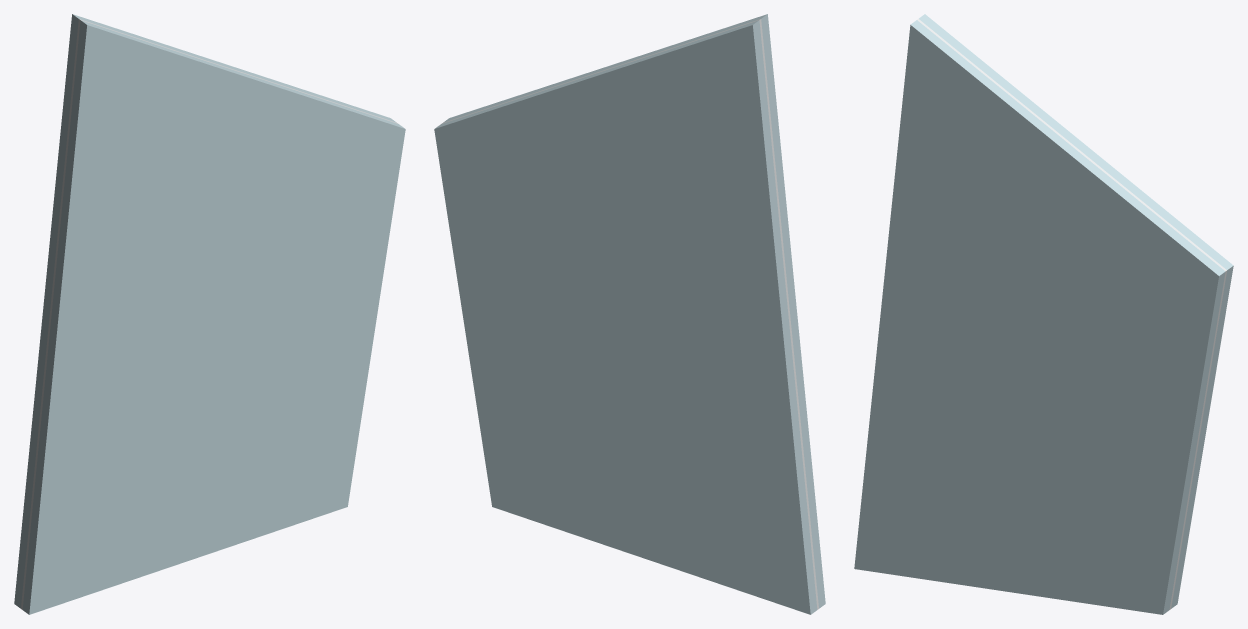
File: SM_Int_Shard_B.fbx
3 renders of one model, left to right at view 1: azimuth 30°, elevation 25°; view 2: azimuth 150°, elevation 25°; view 3: azimuth 330°, elevation 25°, orthographic. The views are drawn at different scales.
Visible parts, largest first — view 1: SM_Int_Shard_B; view 2: SM_Int_Shard_B; view 3: SM_Int_Shard_B.
Part boxes in pixels (x1,y1,x2,y2): SM_Int_Shard_B: [14, 14, 405, 614]; SM_Int_Shard_B: [434, 14, 825, 614]; SM_Int_Shard_B: [854, 14, 1233, 614].
Bounding box in the file's own units: 0.009 × 0.13 × 0.19.
